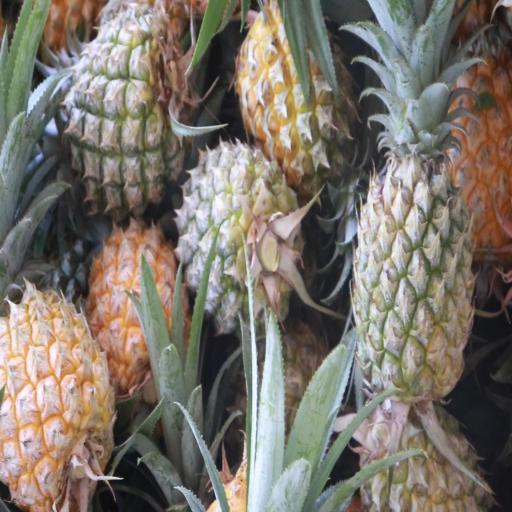------------------------------: (66, 28, 192, 219), (239, 0, 360, 188), (179, 143, 297, 328)
Pineapple - v8 v1: (0, 295, 114, 510), (90, 223, 195, 405)
